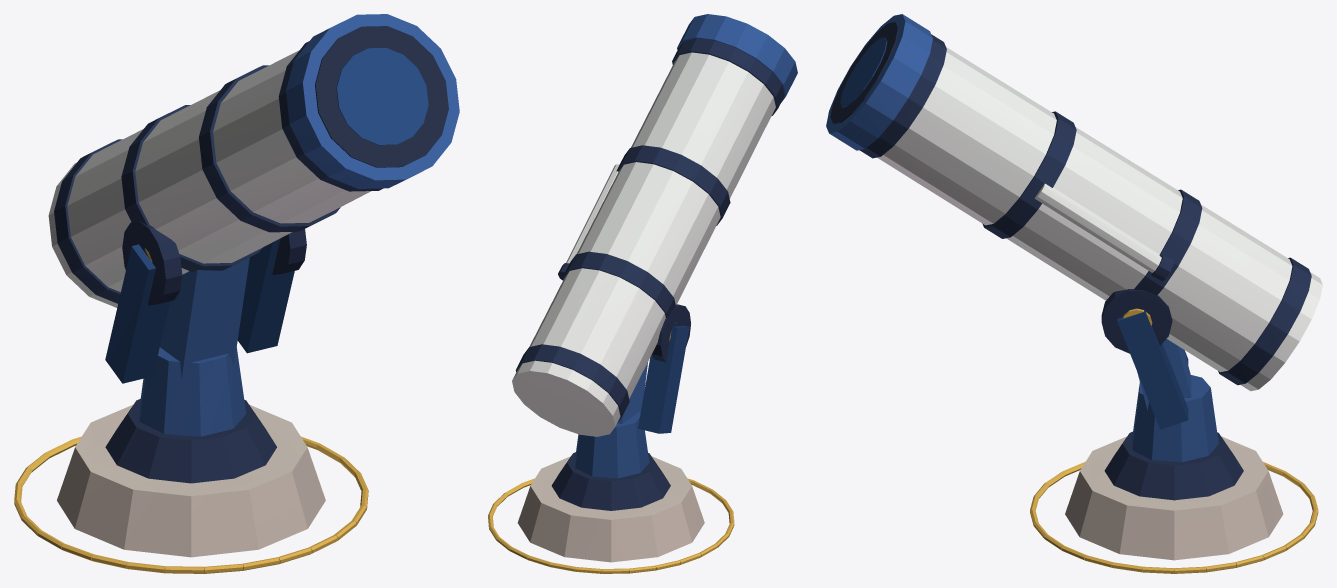
Rendered from telescope.glb.
3 views of the same model, side by side, from view 1: azimuth 30°, elevation 25°; view 2: azimuth 150°, elevation 25°; view 3: azimuth 270°, elevation 25° (orthographic). The views are drawn at different scales.
Parts seen in each view (by area): view 1: telescope; view 2: telescope; view 3: telescope.
Boxes of the visible parts, bbox=[...] form: telescope: bbox=[14, 14, 459, 573]; telescope: bbox=[488, 14, 797, 573]; telescope: bbox=[826, 14, 1322, 573].
Size of the model in its own units: 4.65 by 8.76 by 8.
